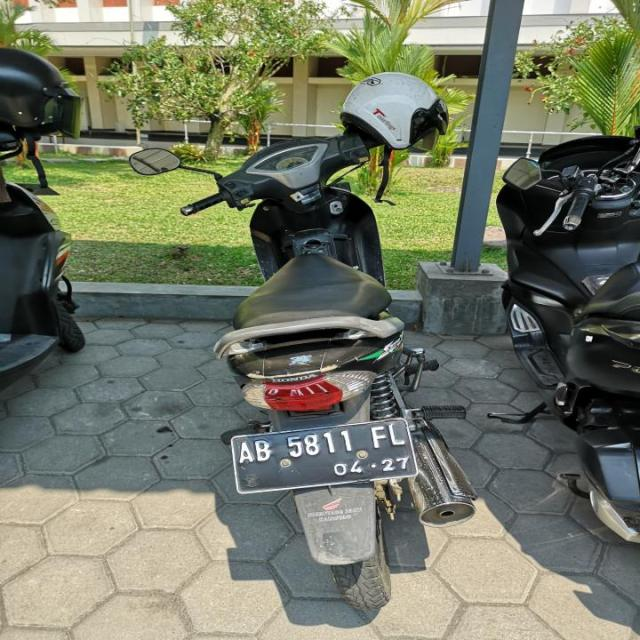License Plate: (230, 419, 420, 495)
